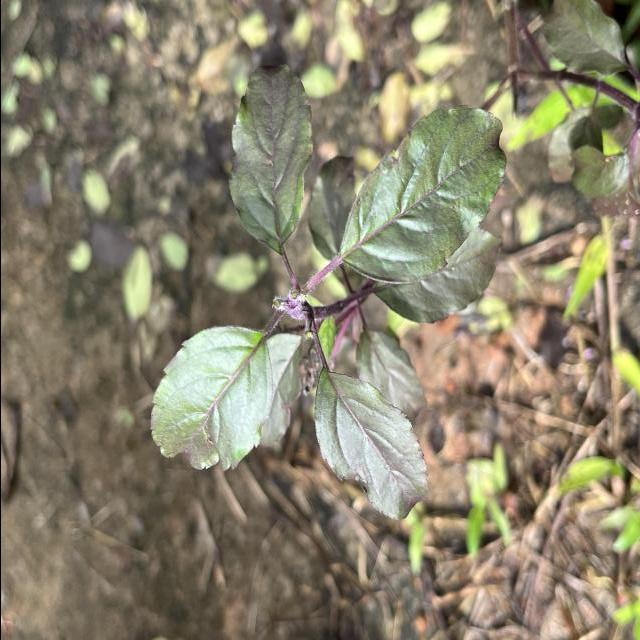Ocimum tenuiflorum: (337, 104, 507, 286), (146, 323, 274, 472), (313, 369, 428, 522), (225, 64, 314, 258)
